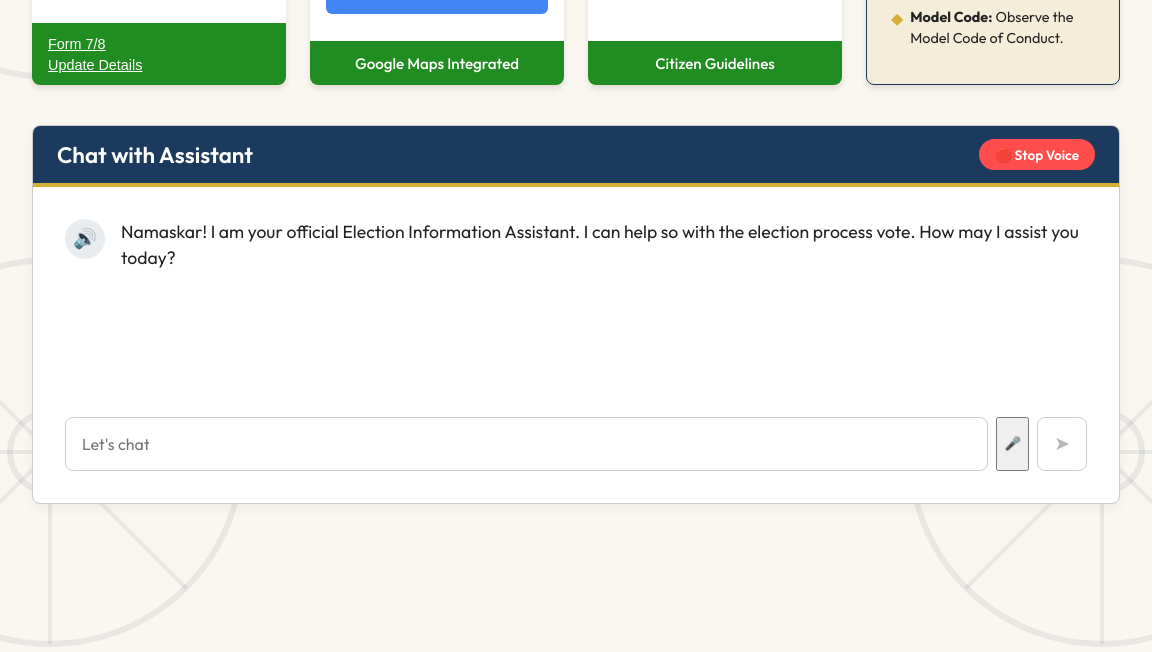
App Component › shows error message when sending message without API key
The width and height of the screenshot is (1152, 652).
(page scrolled)
Type "Hello" into the field with placeholder "Let's chat" at (527,444), box [65, 417, 988, 471]
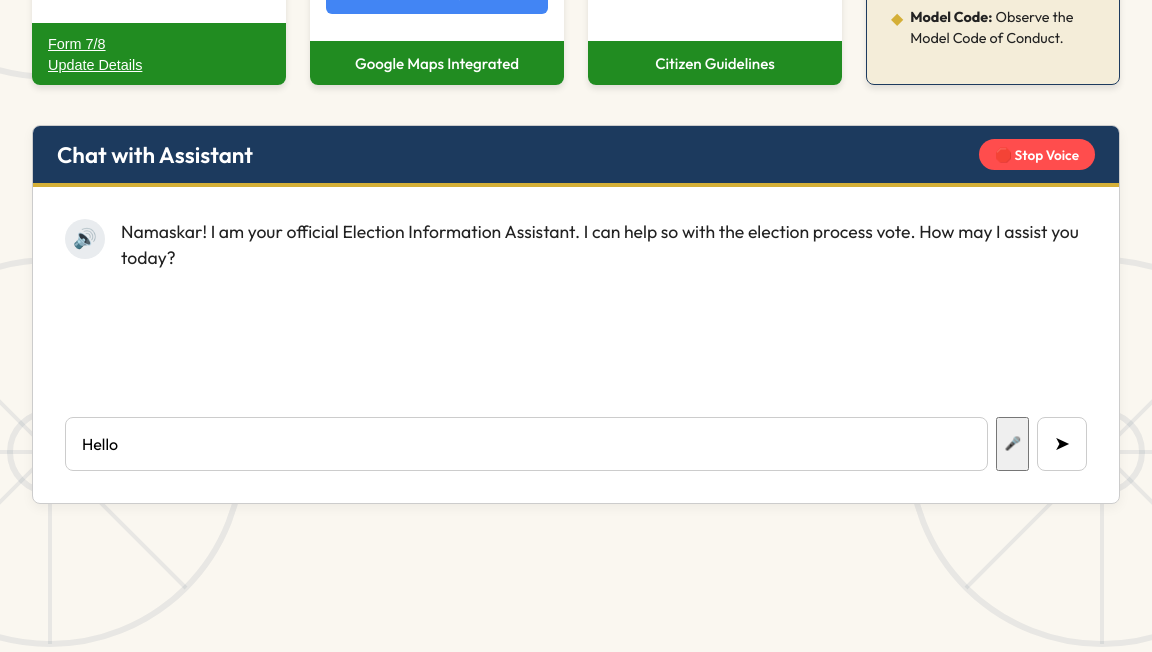
Click the button "➤" at (1062,444), box [1037, 417, 1087, 471]
(page scrolled)
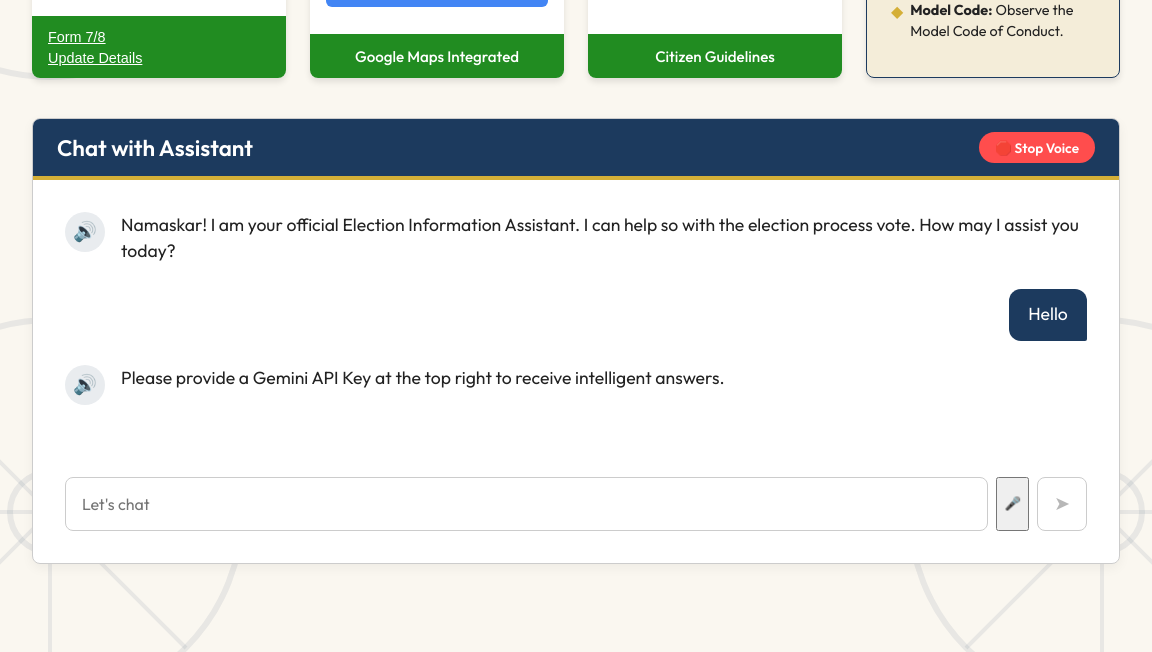
Result: the text "Please provide a Gemini API Key" is shown at [121, 366, 724, 389]
